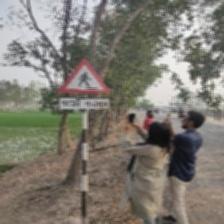Pedestrian-crossing: (57, 57, 112, 113)
